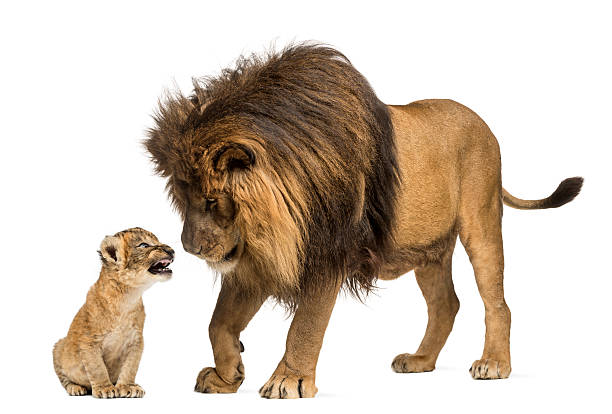lion: (144, 17, 591, 406)
